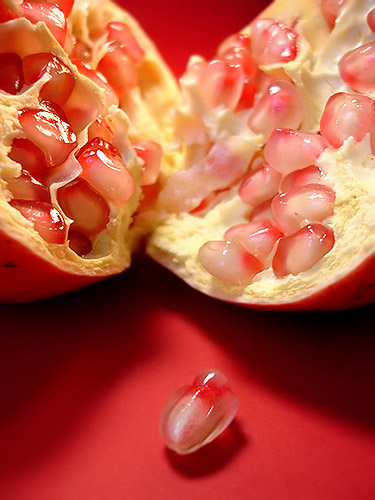pomogranate: (0, 0, 371, 313)
